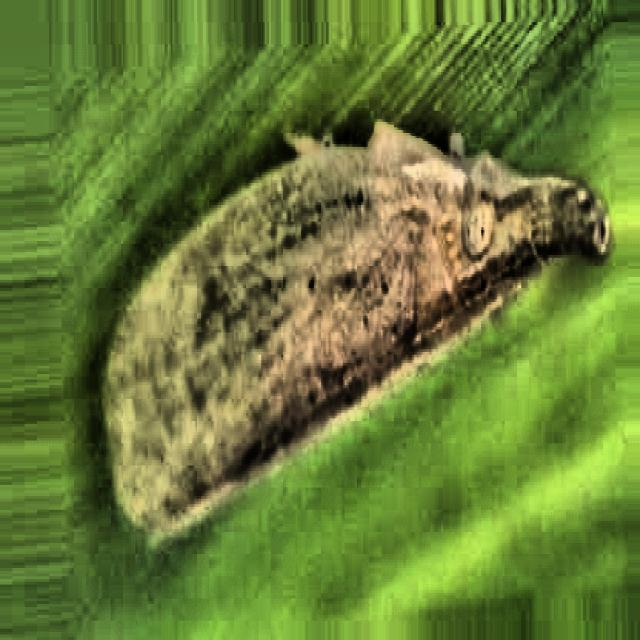Pyrilla-perpusilla: (50, 57, 640, 612)
